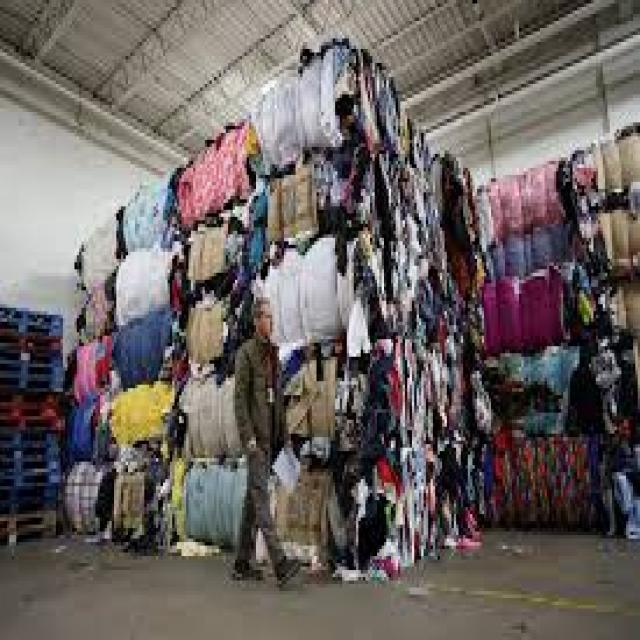Clothes -Biodegradable-: (65, 43, 640, 584)
